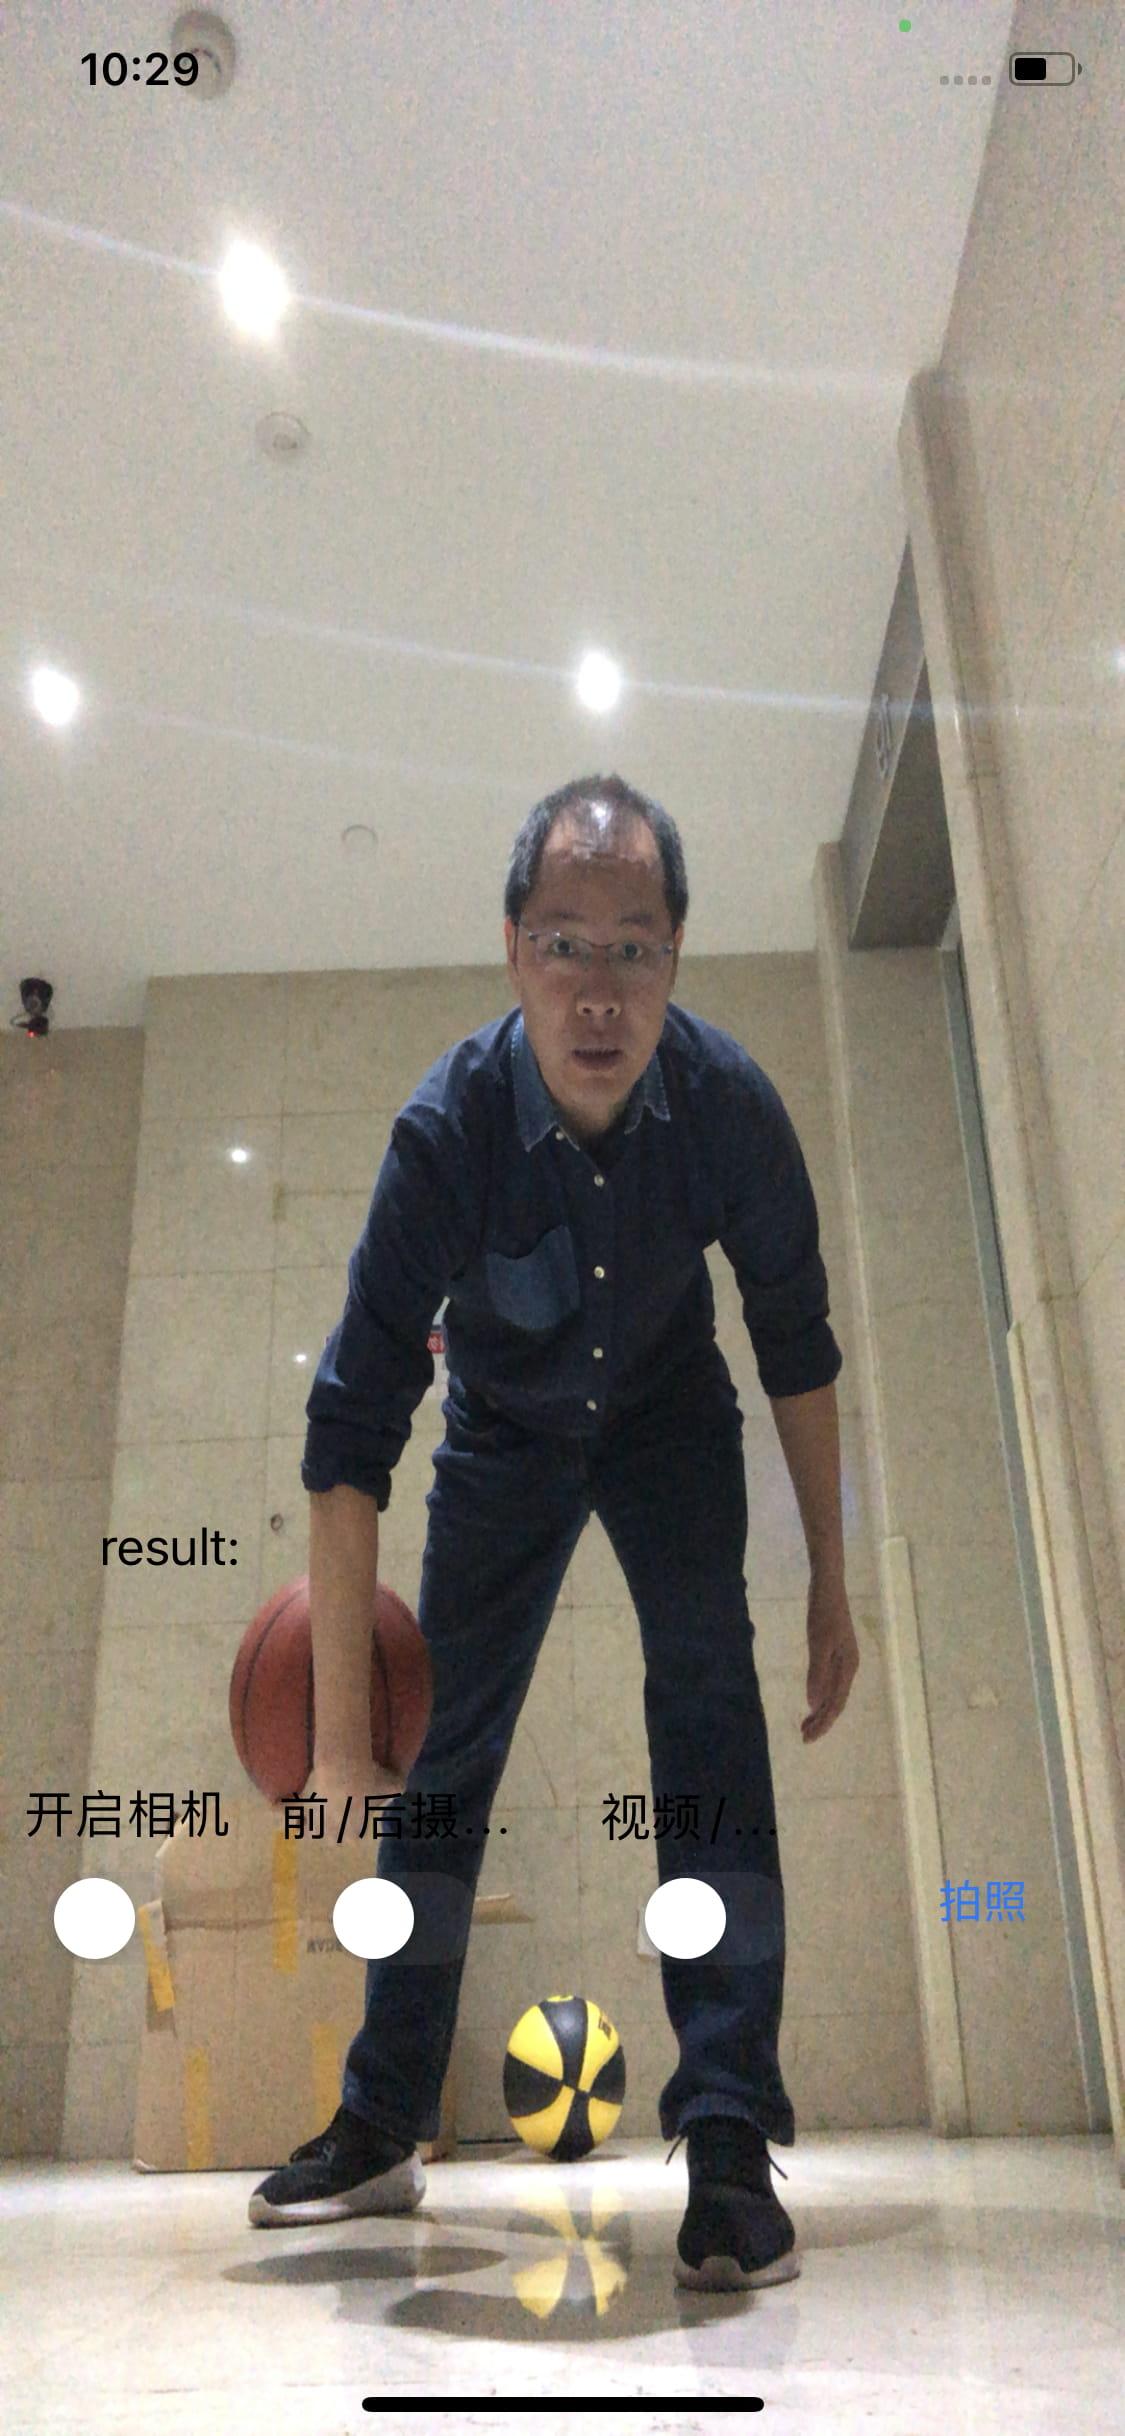ball: (233, 1582, 430, 1808)
